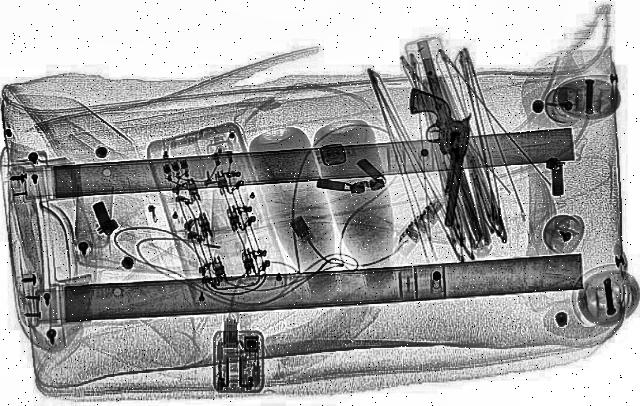Gun: (381, 90, 485, 228)
